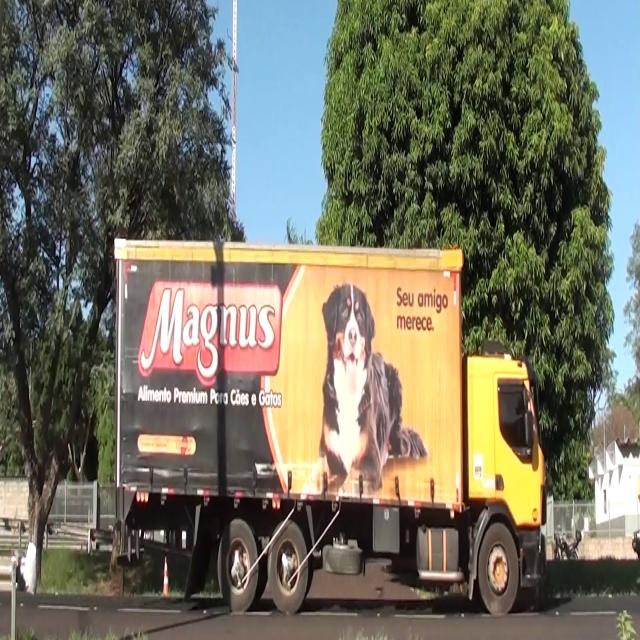-axle: (474, 522, 524, 613), (219, 519, 258, 608), (267, 523, 305, 608)
